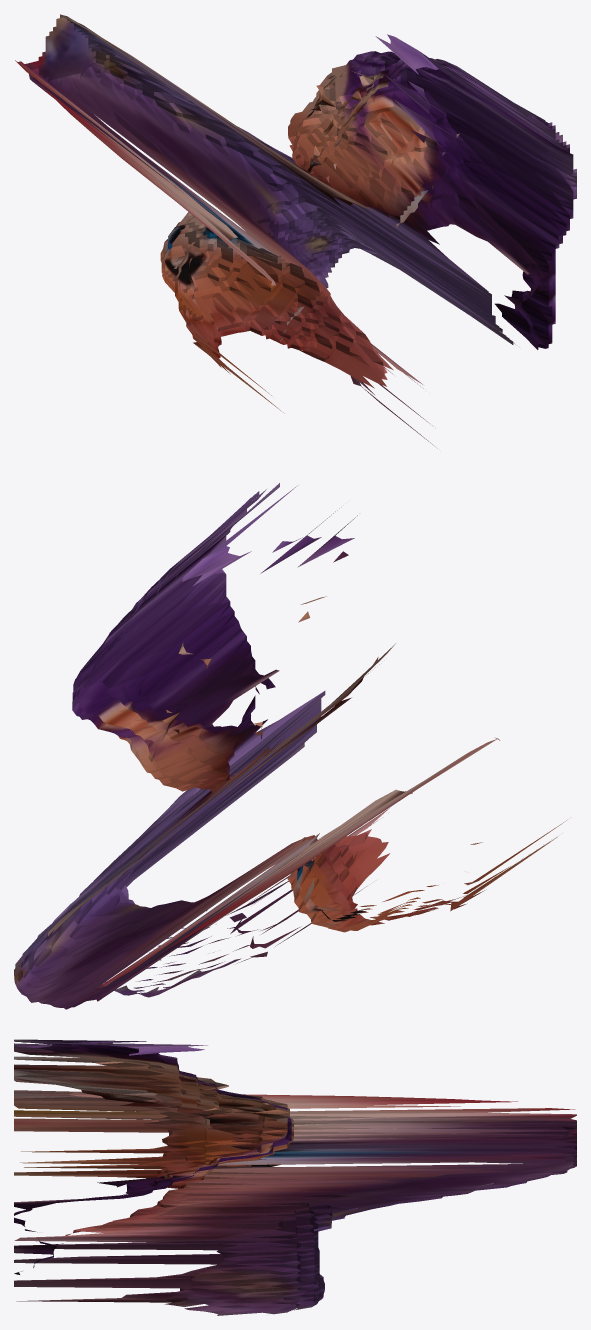
Rendered from frame_00005.glb.
3 renders of one model, top to bottom at view 1: azimuth 30°, elevation 25°; view 2: azimuth 150°, elevation 25°; view 3: azimuth 270°, elevation 25°, orthographic. The views are drawn at different scales.
Parts seen in each view (by area): view 1: geometry_0; view 2: geometry_0; view 3: geometry_0.
Boxes of the visible parts, x1,y1,x2,y2 form: geometry_0: (15, 14, 576, 448); geometry_0: (14, 483, 566, 1009); geometry_0: (14, 1039, 576, 1315).
Size of the model in its own units: 0.0852 by 0.0863 by 0.16.
Materials: 1 (1 with a texture image).
